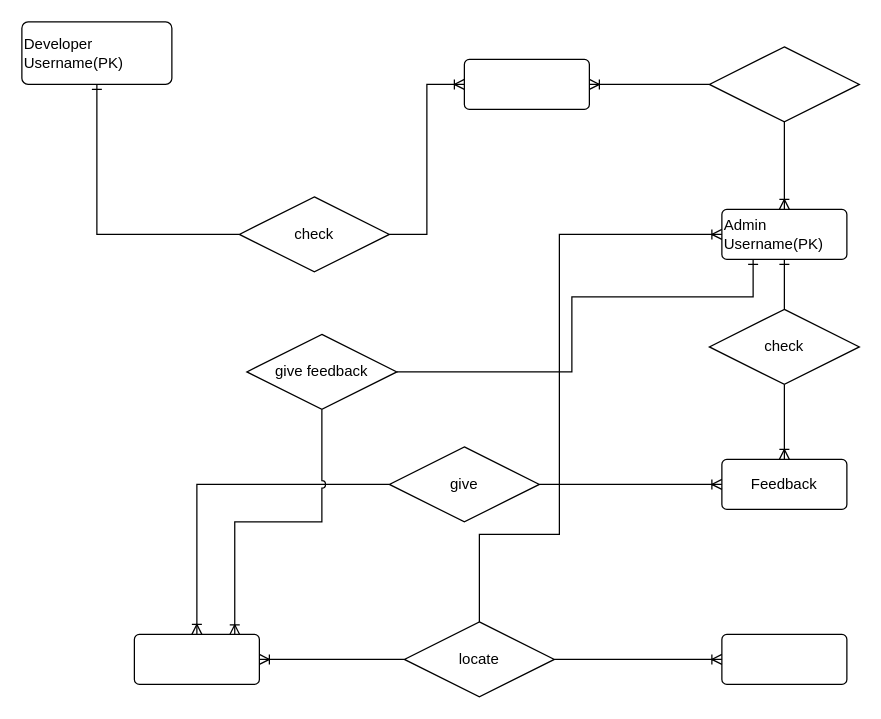
Image size: 881x719. Some labels were removed from this diagram. The shapes that lost their labels are listed below. From the top down, each one's box as (x1, y1, x2, y2) in pixels, then its label:
(463, 58, 589, 109): Requests
(708, 46, 859, 122): Sends Requests
(133, 633, 259, 684): VISITOR VisitorName(PK)
(721, 633, 847, 684): Room
